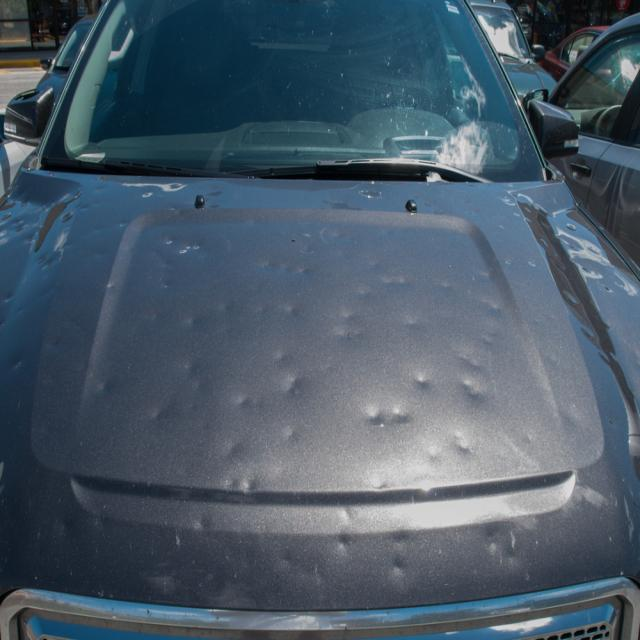dent: (0, 176, 636, 609)
